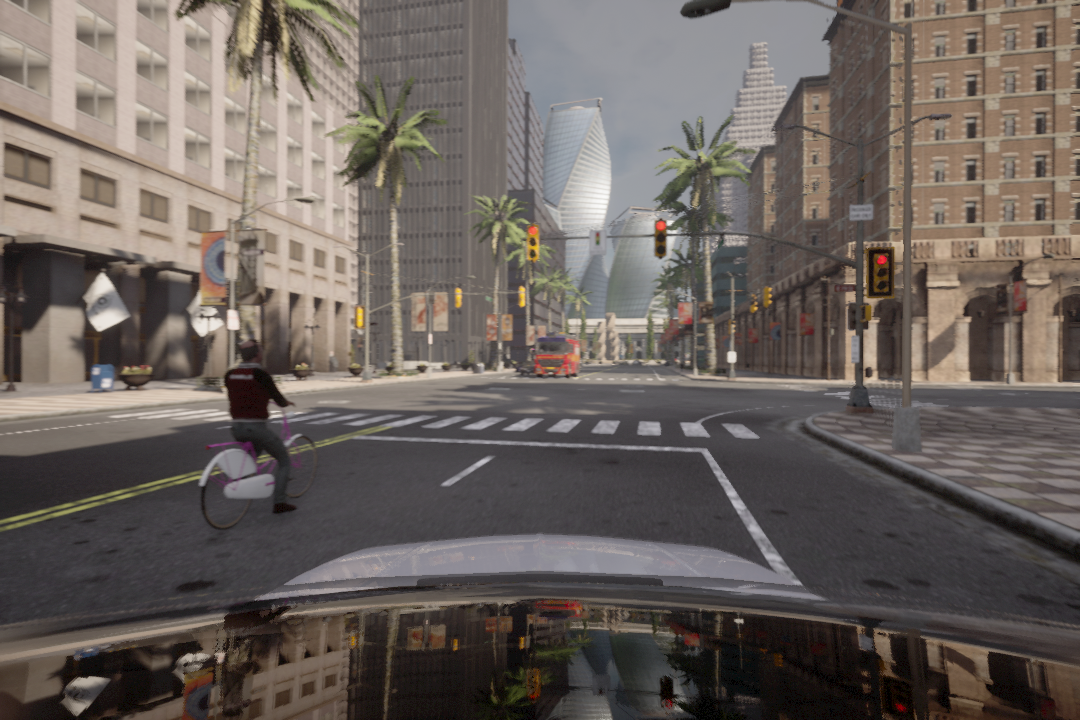TrafficLight: (871, 253, 891, 295), (524, 227, 542, 264), (654, 221, 667, 261)
walkside: (116, 403, 751, 447)
